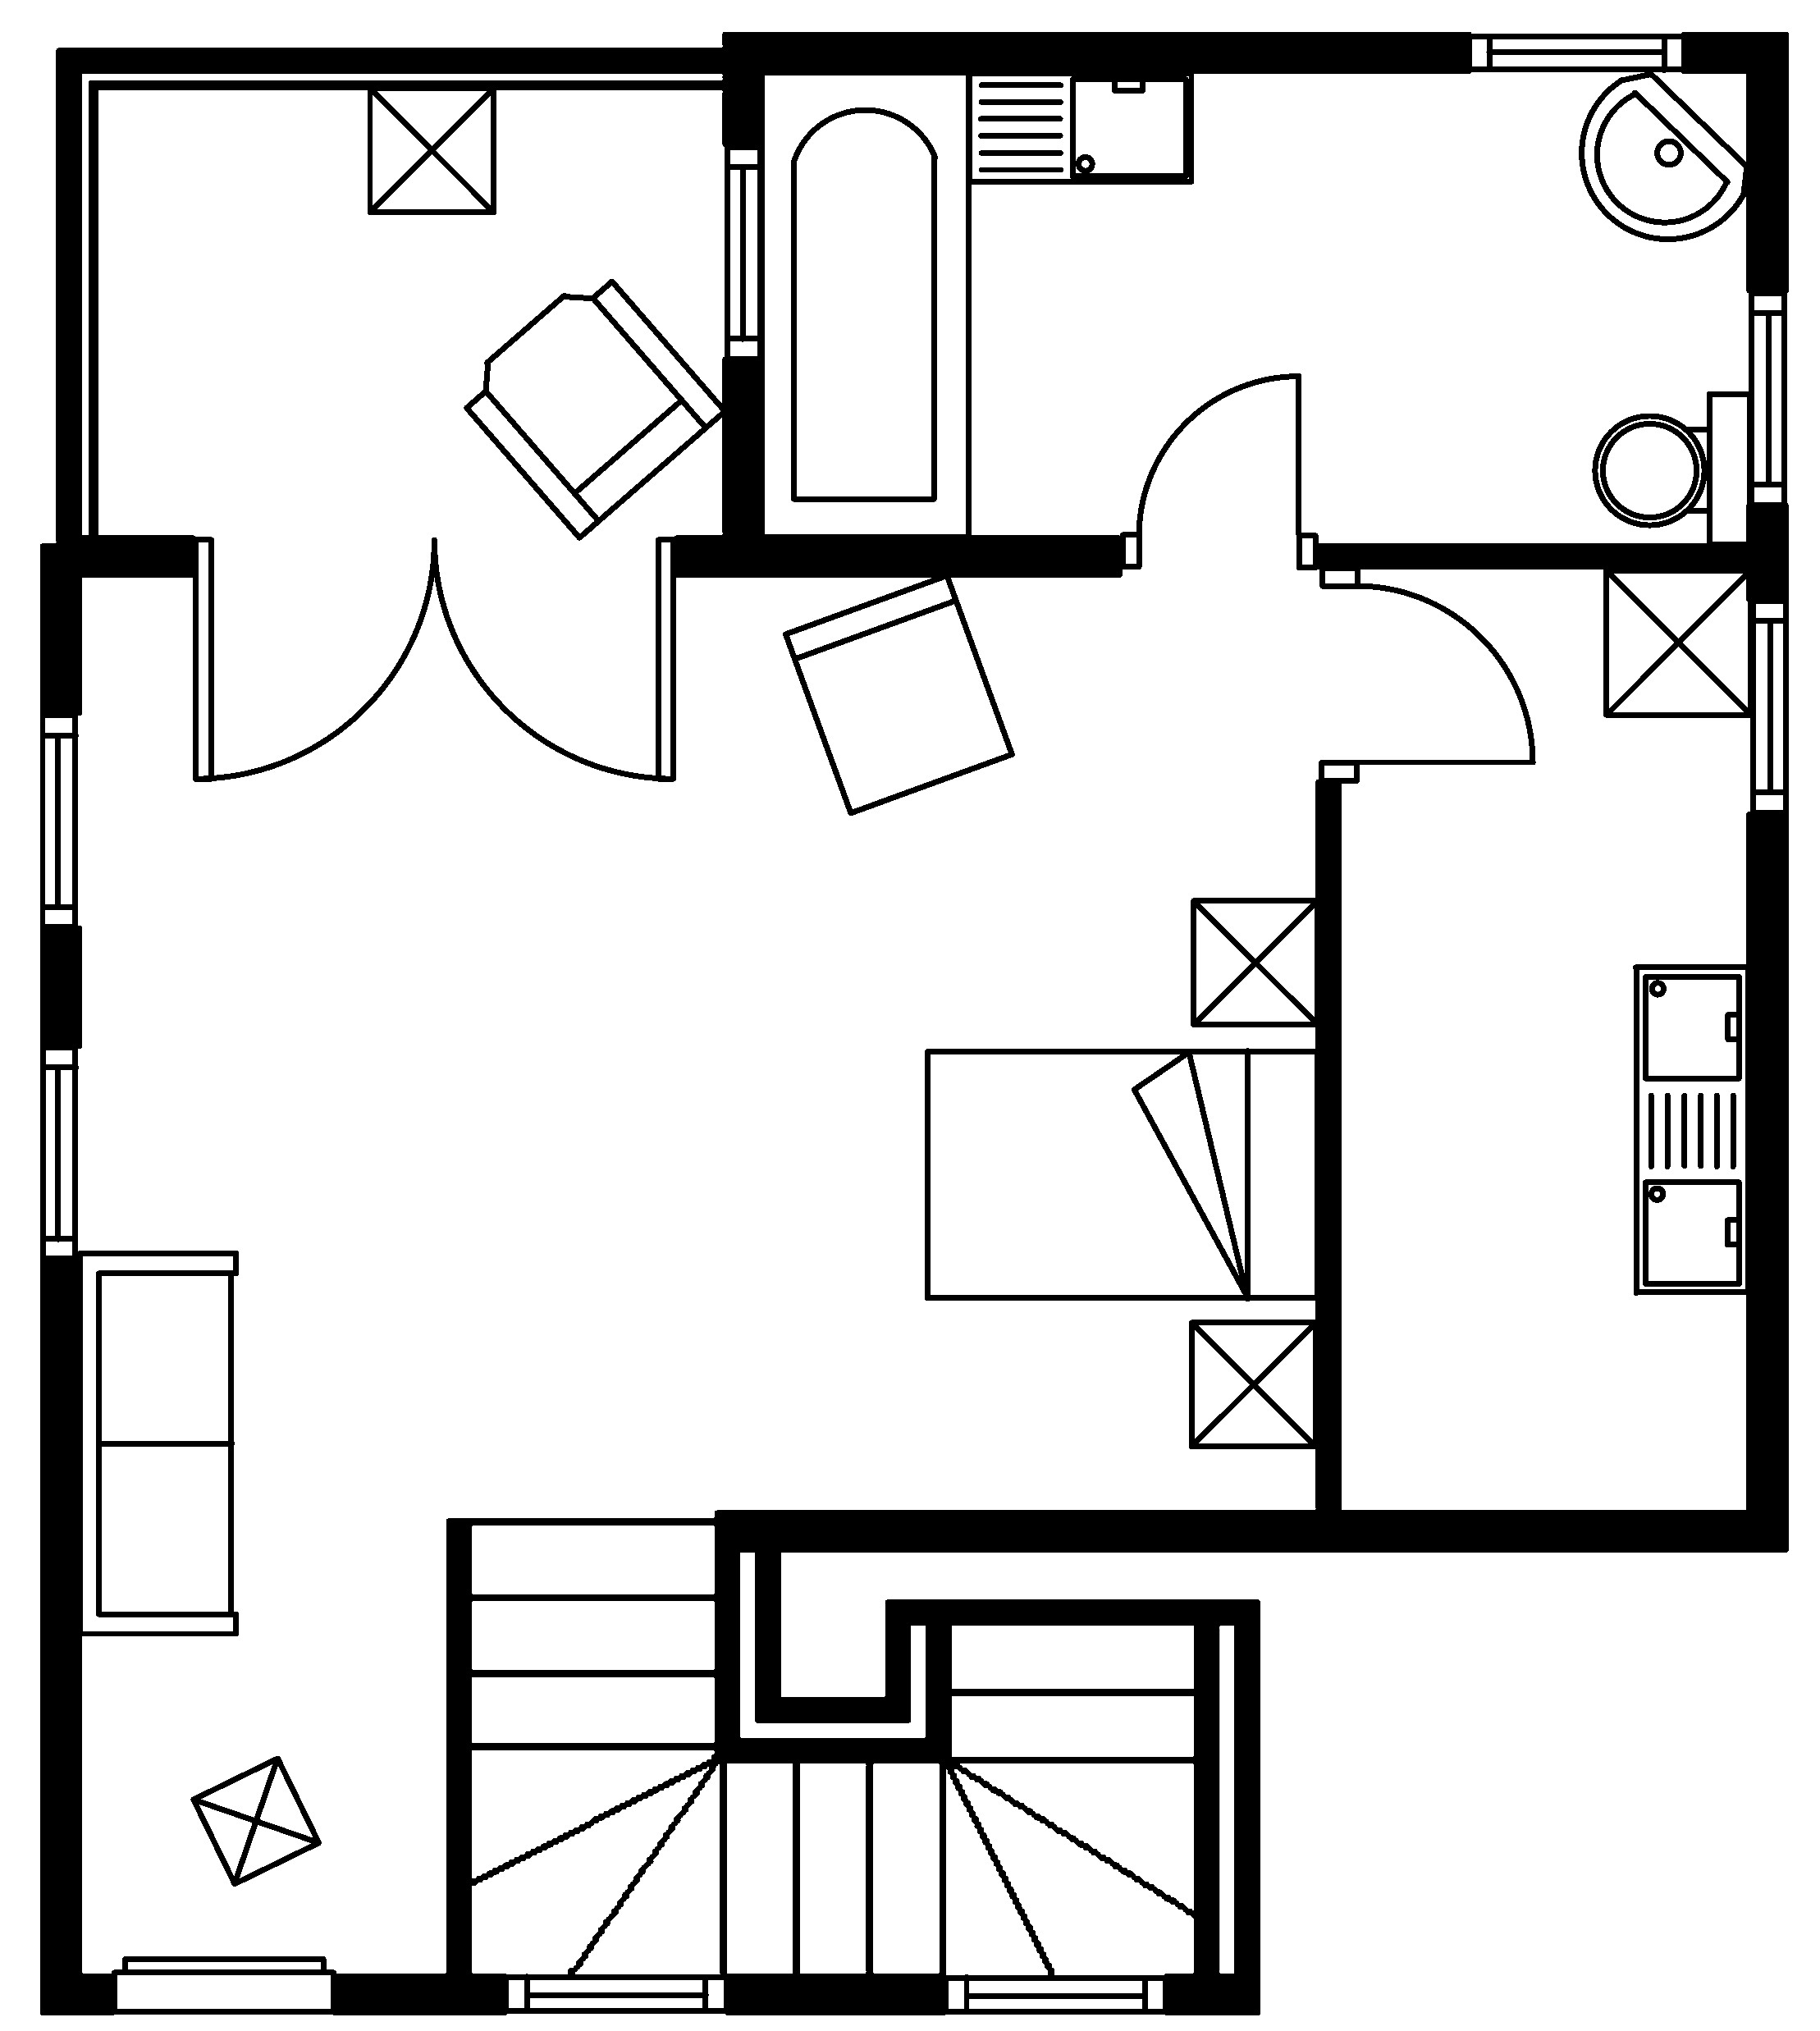armchair: (462, 276, 727, 541)
bed: (922, 1047, 1321, 1302)
coffee_table: (1602, 566, 1753, 719), (188, 1753, 321, 1887), (1186, 1318, 1319, 1449), (1189, 896, 1321, 1028), (365, 84, 497, 214)
large_sink: (1592, 388, 1753, 548)
large_sofa: (76, 1249, 239, 1637)
sink: (964, 69, 1195, 184)
small_sink: (1578, 70, 1750, 241)
small_sofa: (782, 571, 1015, 815)
tub: (757, 69, 971, 539)
twin_sink: (1630, 963, 1751, 1297)
